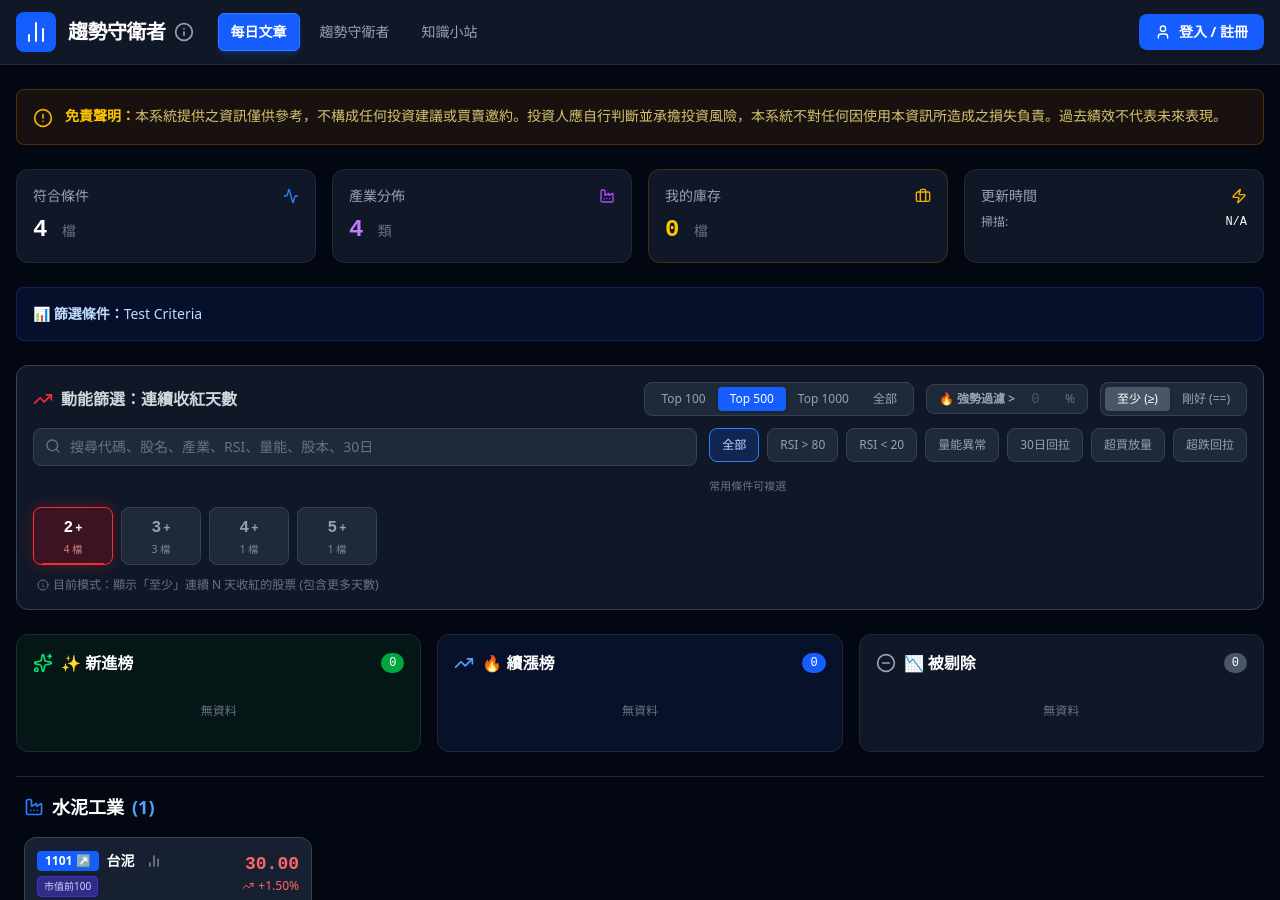
App Filter Logic Tests › filters by Red K days (>= 3)
The image size is (1280, 900).
Expected: the heading "台泥" is shown, left=107, top=851, right=135, bottom=871
Step 1. Click the button "3+ 3 檔" → {"x": 161, "y": 536}, box left=121, top=506, right=201, bottom=565
(page scrolled)
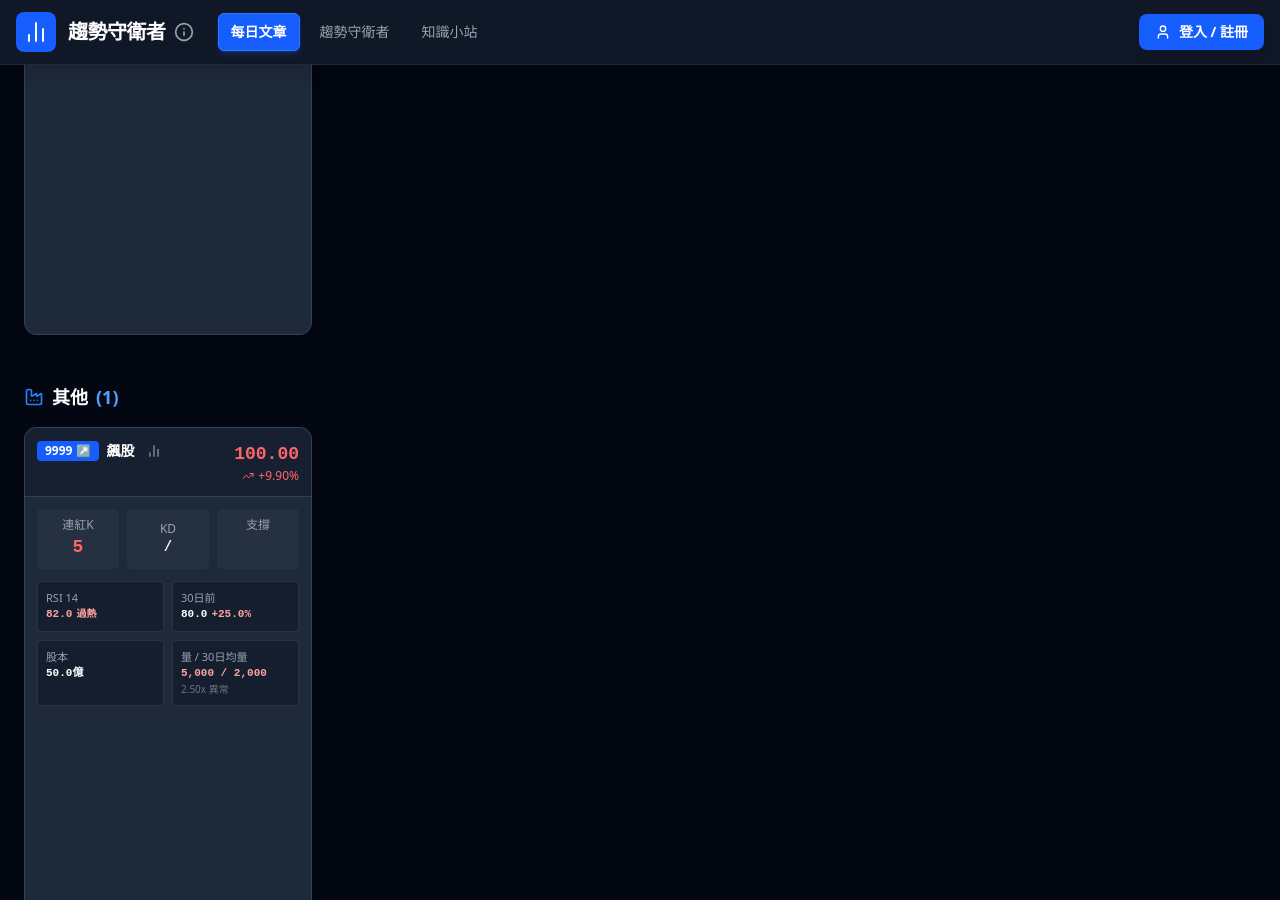
Expected: the heading "飆股" is shown, left=107, top=441, right=135, bottom=461
Now the heading "台泥" is gone
